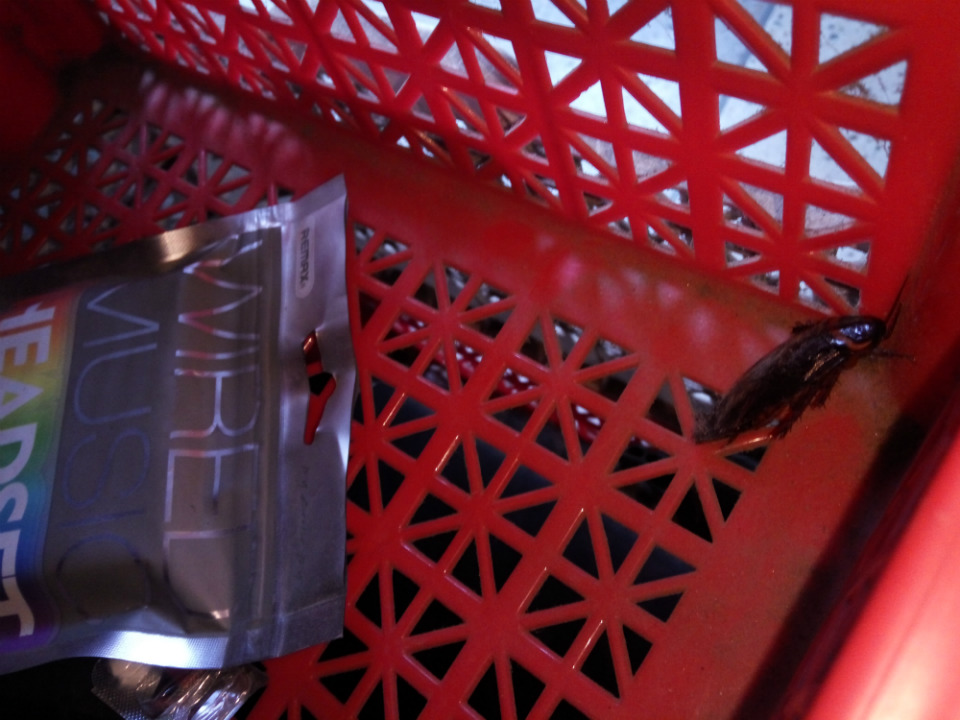cockroach: (656, 306, 951, 462)
